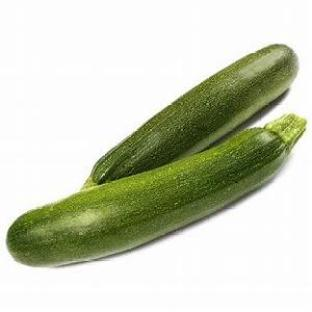Zucchini: (8, 115, 305, 266), (85, 45, 298, 188)
